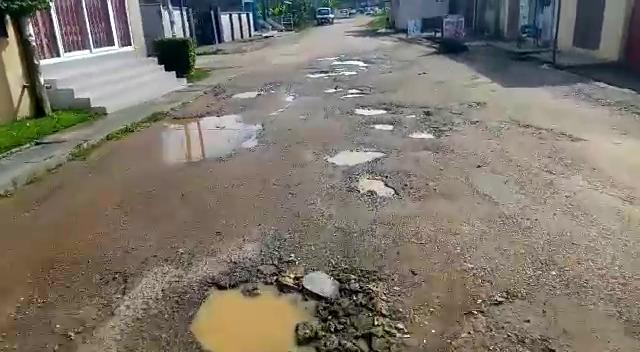pothole: (185, 276, 358, 352), (116, 118, 261, 165), (347, 170, 404, 201), (325, 147, 388, 167), (304, 67, 359, 78), (331, 87, 375, 97), (348, 106, 391, 116), (369, 123, 401, 132), (410, 130, 440, 139), (234, 89, 261, 99)
